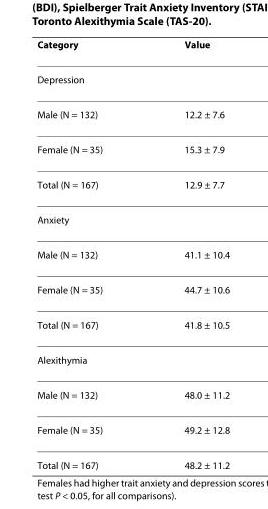table: (36, 37, 229, 470)
table column: (36, 37, 142, 470), (142, 37, 229, 470)
table column header: (36, 37, 229, 61)
table projected row header: (36, 61, 229, 96), (36, 201, 229, 236), (36, 341, 229, 376)
table row: (36, 61, 229, 96), (36, 96, 229, 131), (36, 131, 229, 166), (36, 166, 229, 201), (36, 201, 229, 236), (36, 236, 229, 271), (36, 271, 229, 306), (36, 306, 229, 341), (36, 341, 229, 376), (36, 376, 229, 411), (36, 411, 229, 446), (36, 37, 229, 61), (36, 446, 229, 470)
